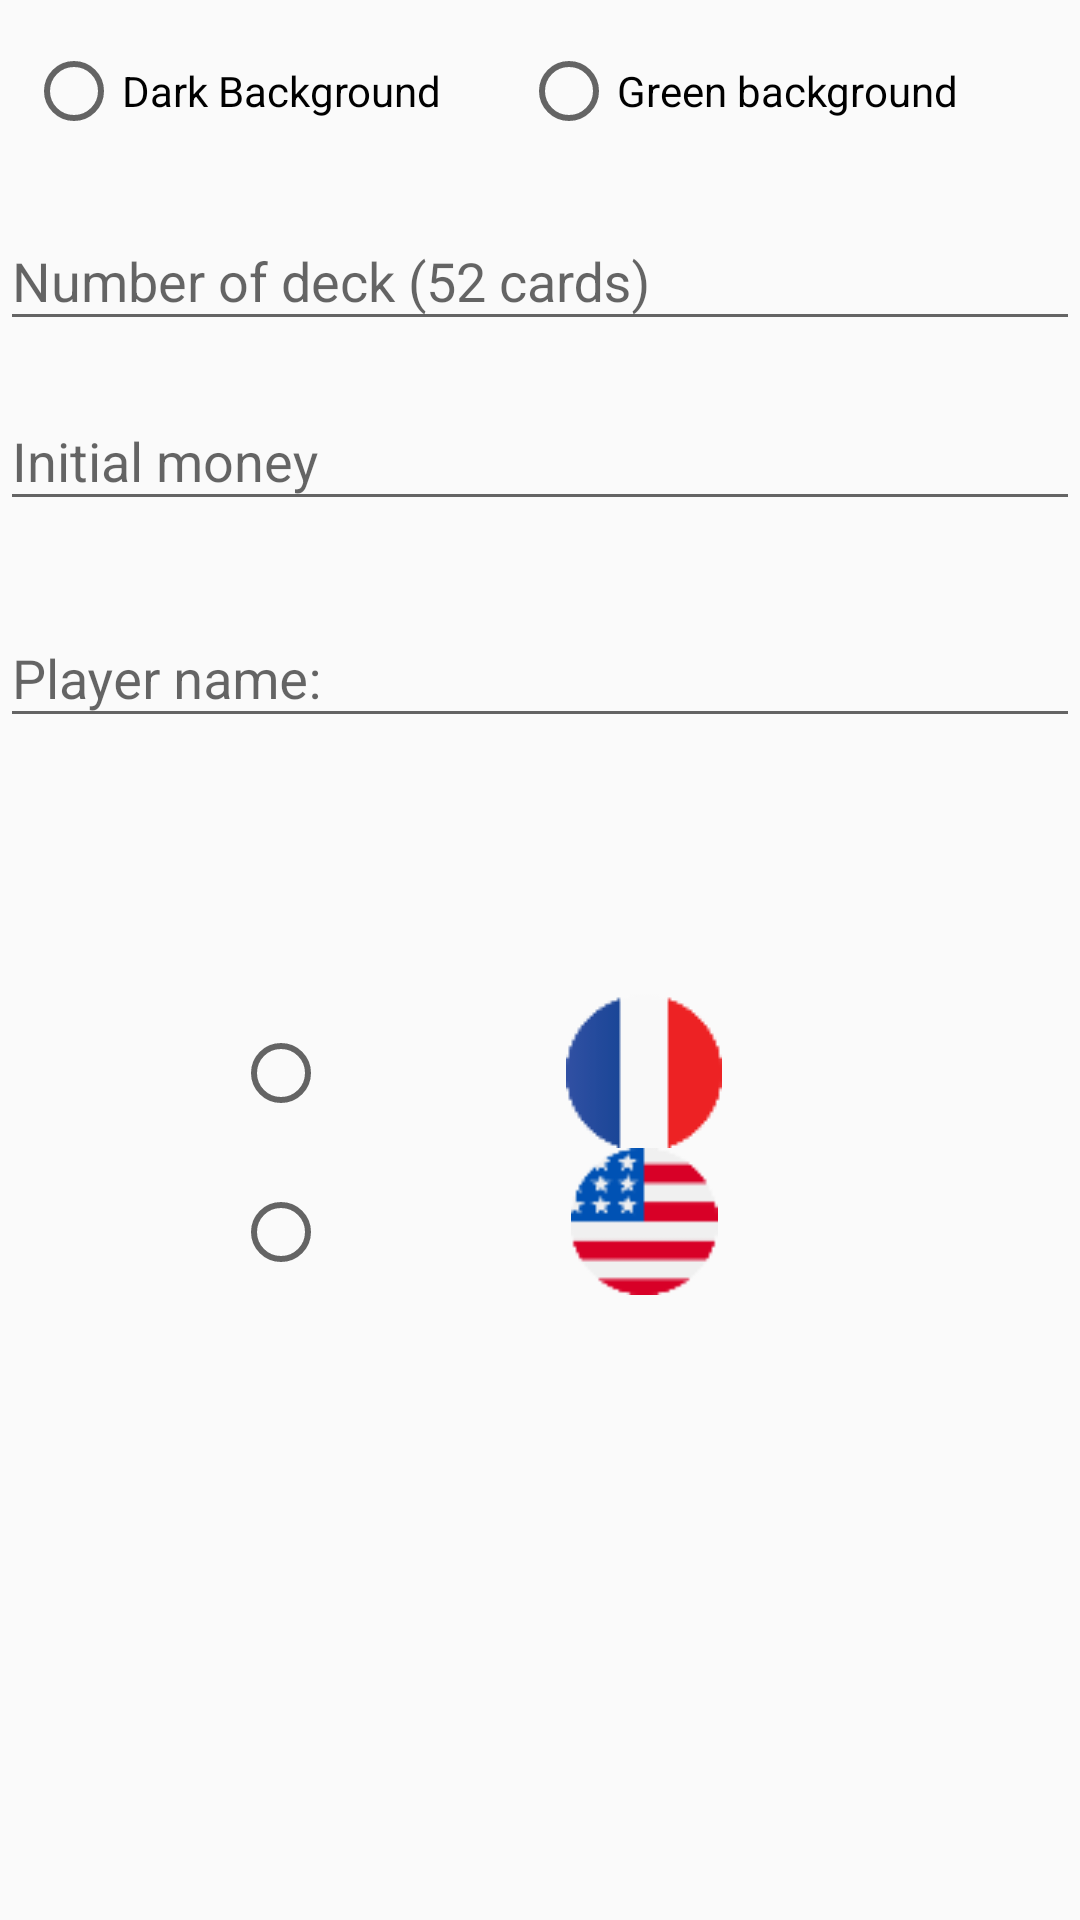

Screen size 1080*1920. Icon name, then its center in pixels as [x,y]:
american flag: [644,1221]
french flag: [644,1072]
